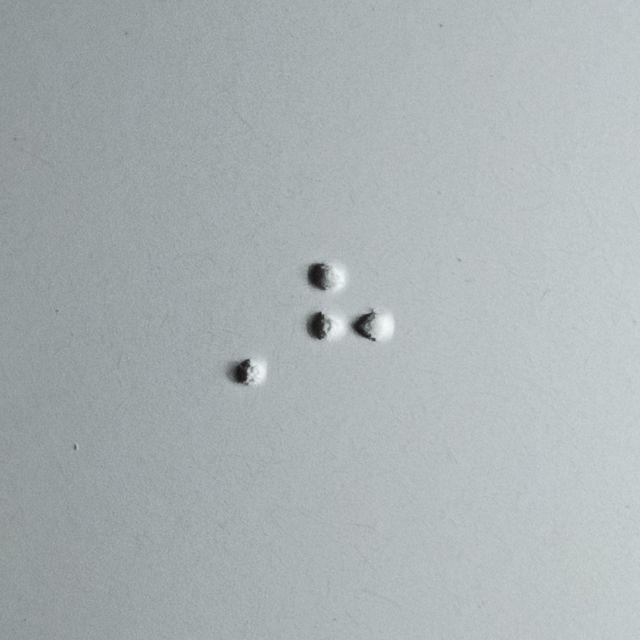H: (307, 260, 394, 391)
capital: (182, 259, 268, 389)
